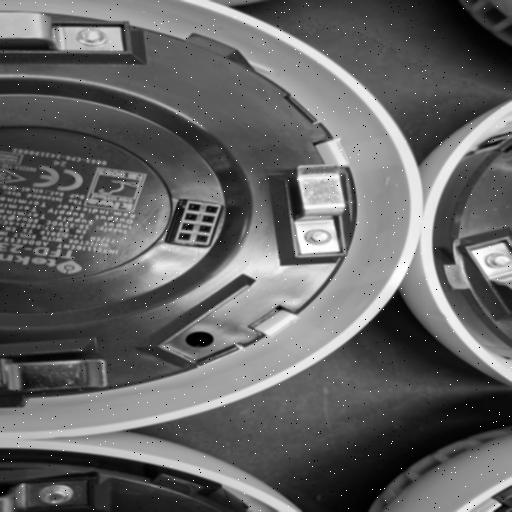konnektor: (155, 194, 237, 250)
yaysiz: (271, 156, 357, 270)
